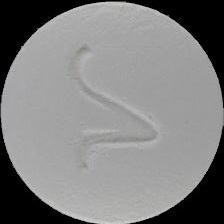61786-859: (0, 0, 224, 224)
